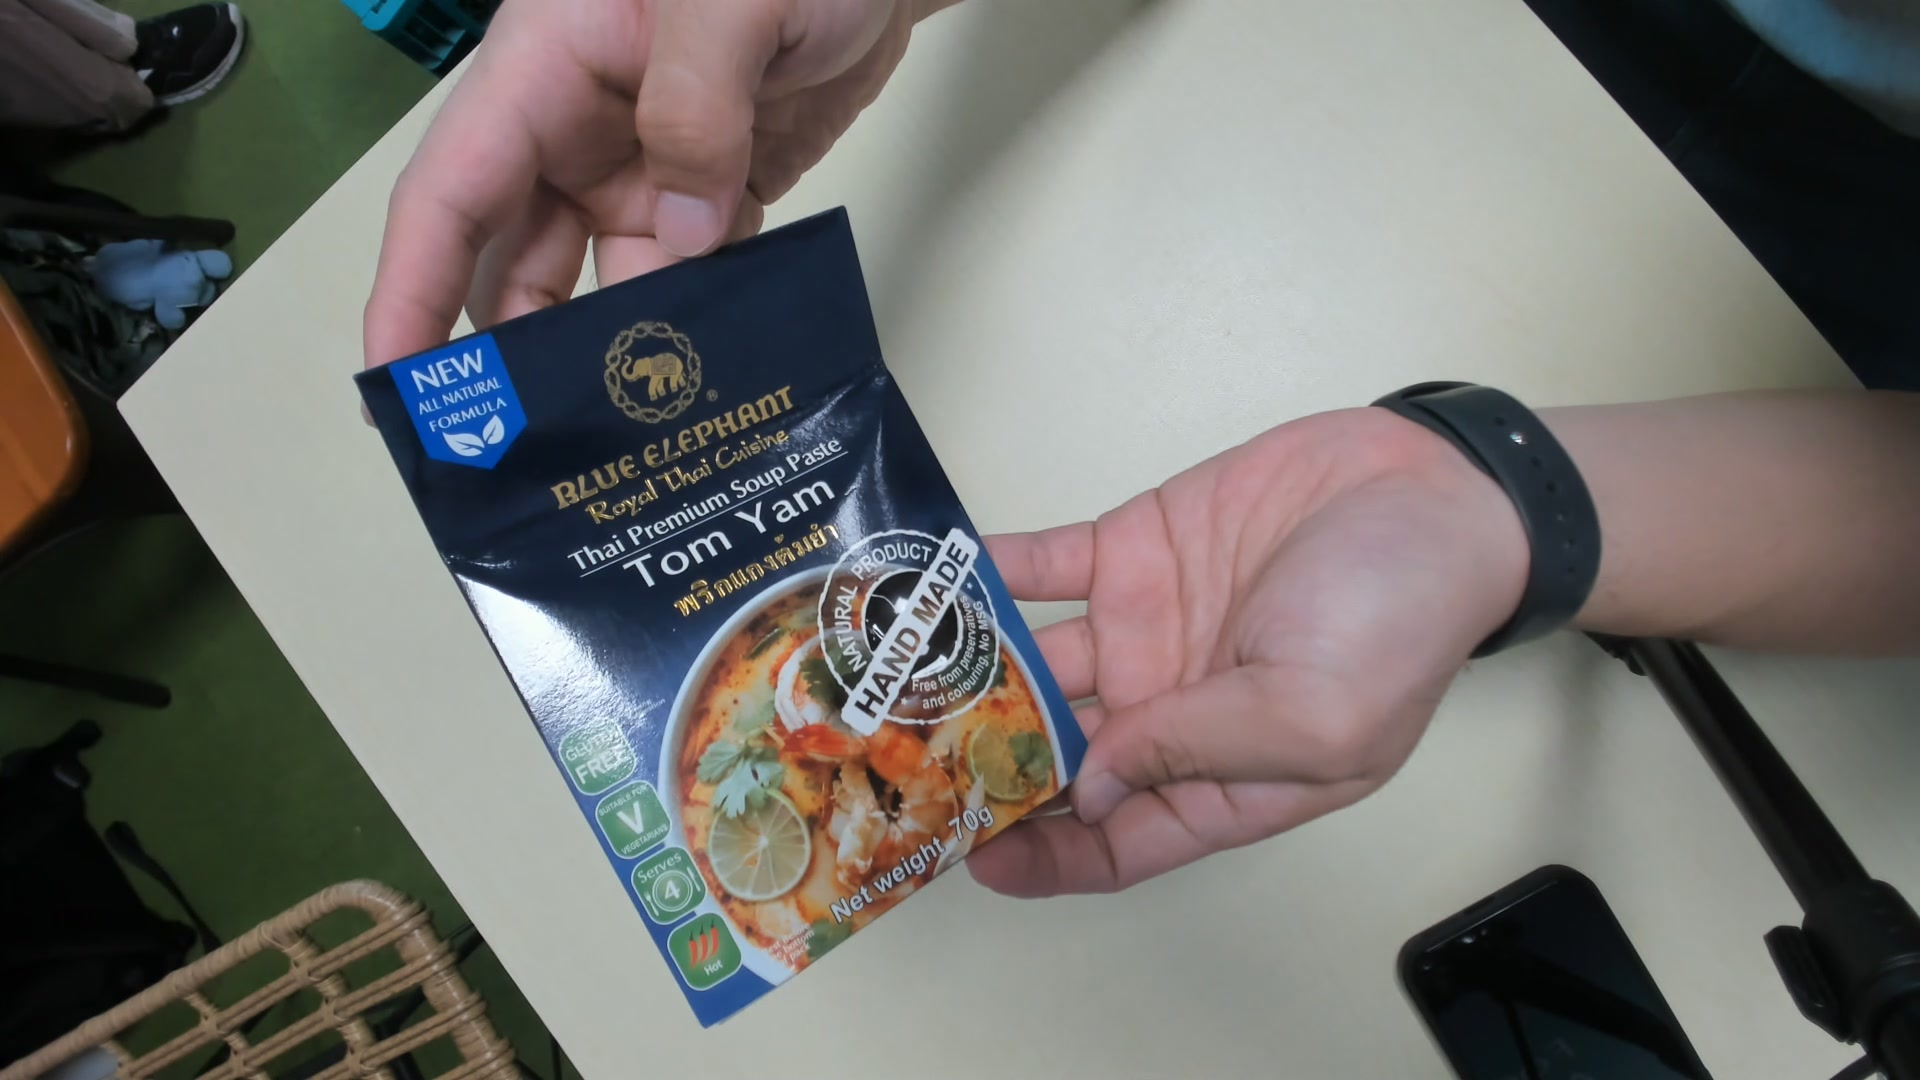OtherSauceDressing_0-99g_Halal_NonHealthy: (360, 199, 1102, 1027)
